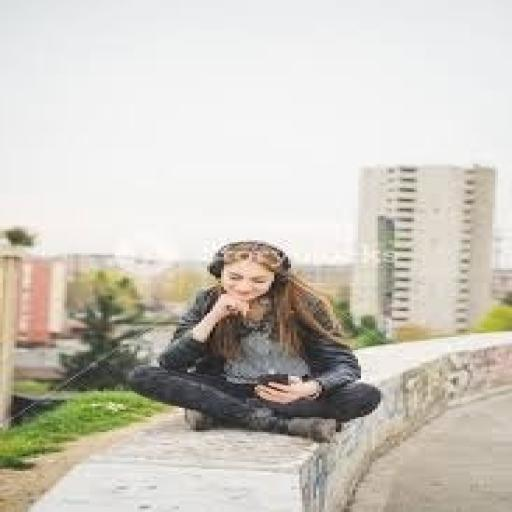listening_to_music: (123, 238, 386, 445)
